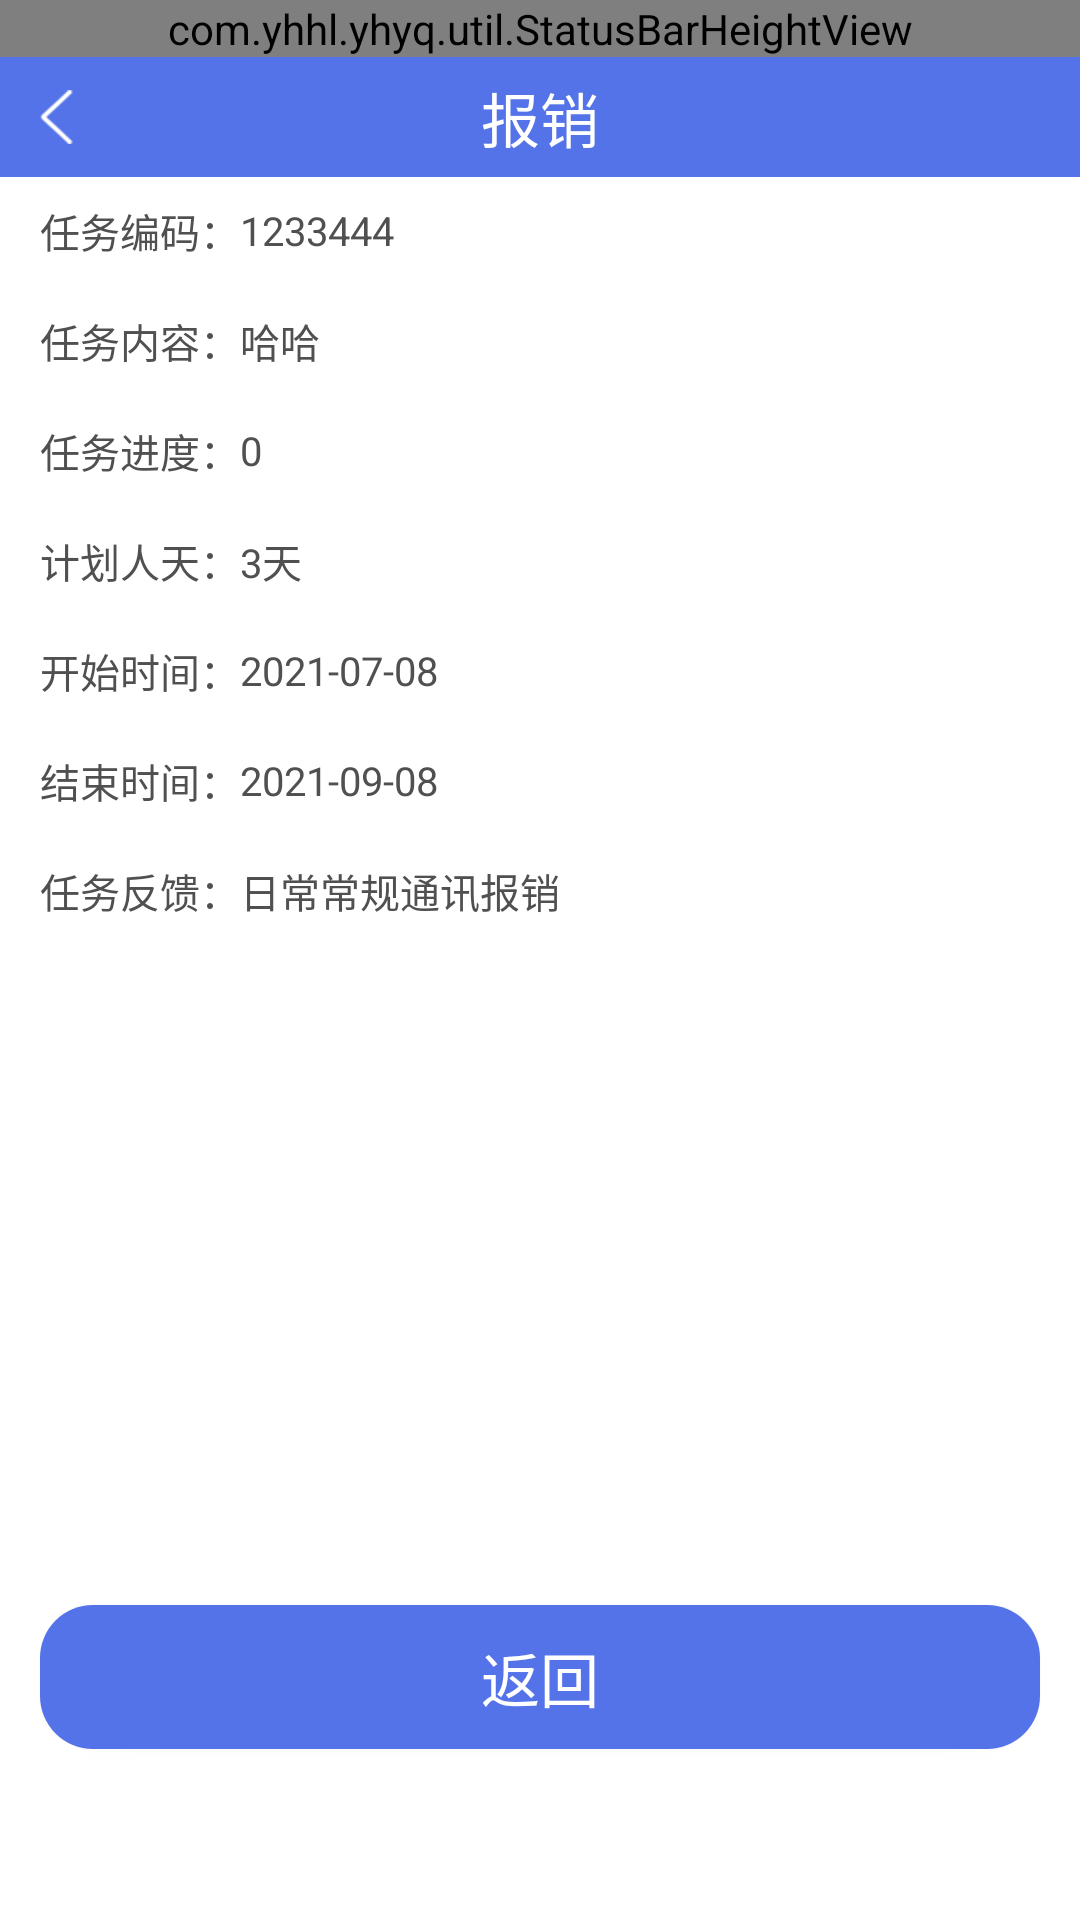

Point at icon controls on the screen. Image size 1080px x 1920px, points as (x,y).
back: (56,117)
